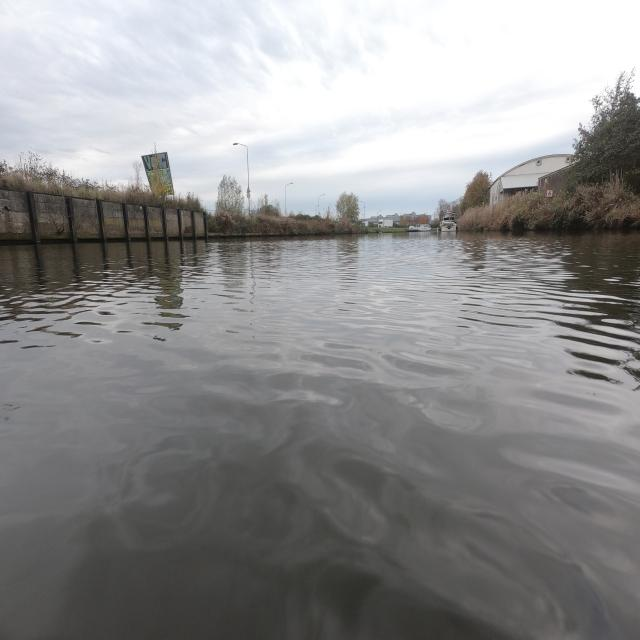boat: (408, 224, 431, 231)
reed: (452, 173, 639, 230), (214, 208, 363, 235)
tree: (570, 67, 639, 191)
wall: (2, 187, 202, 241)
water: (1, 229, 637, 639)
